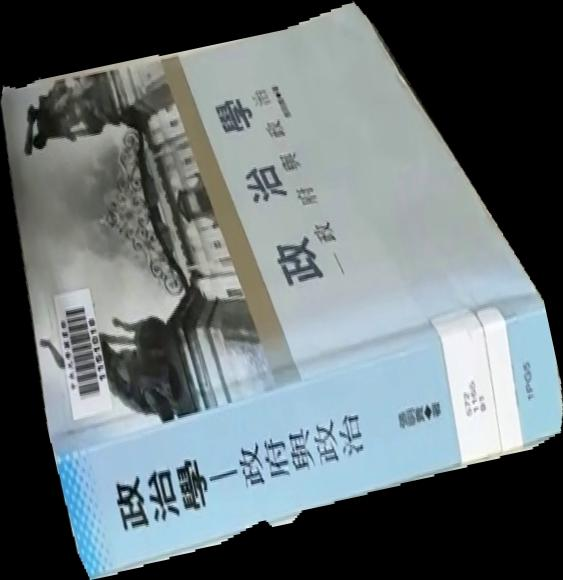flat: (1, 1, 563, 580)
